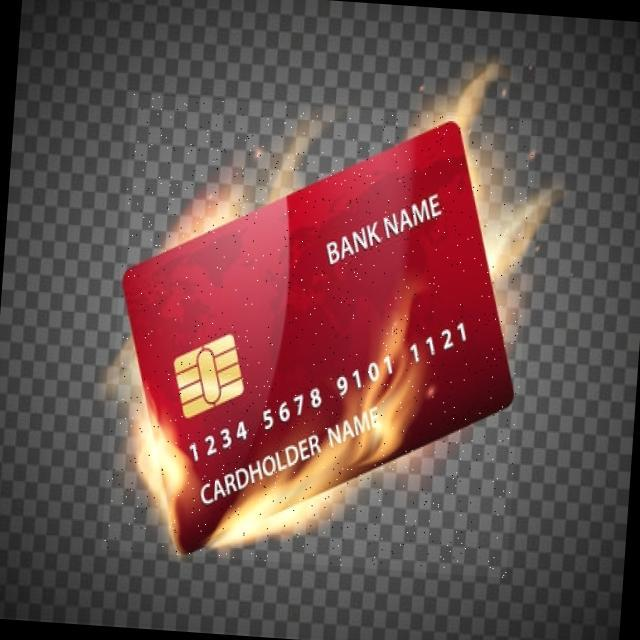payment_card: (120, 119, 515, 556)
